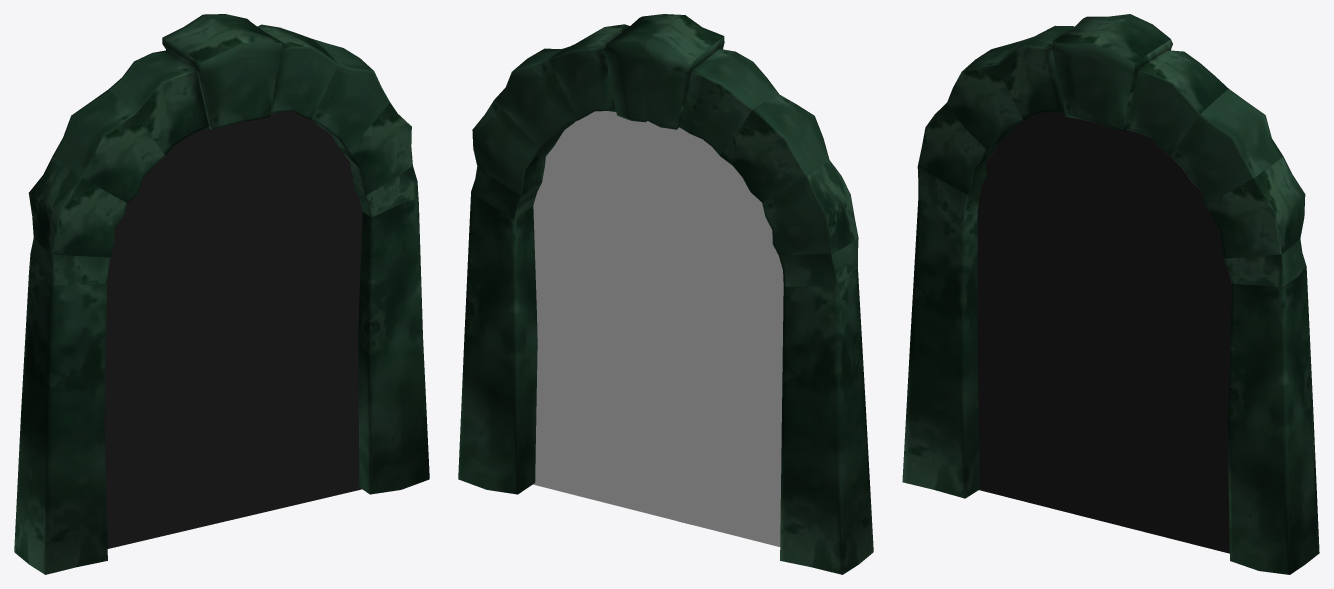
Rendered from MiddleDoor-transformed.glb.
3 views of the same model, side by side, from view 1: azimuth 30°, elevation 25°; view 2: azimuth 150°, elevation 25°; view 3: azimuth 330°, elevation 25° (orthographic).
Parts seen in each view (by area): view 1: Retopo_Circle.002, StoneGateway.003; view 2: Retopo_Circle.002, StoneGateway.003; view 3: Retopo_Circle.002, StoneGateway.003.
Boxes of the visible parts, bbox=[...] form: Retopo_Circle.002: bbox=[104, 111, 362, 548]; StoneGateway.003: bbox=[14, 14, 429, 574]; Retopo_Circle.002: bbox=[533, 111, 783, 546]; StoneGateway.003: bbox=[458, 14, 873, 574]; Retopo_Circle.002: bbox=[977, 112, 1231, 553]; StoneGateway.003: bbox=[902, 14, 1319, 574].
Bounding box in the file's own units: 3.27 × 3.98 × 0.6154.
Materials: 3 (3 with a texture image).
